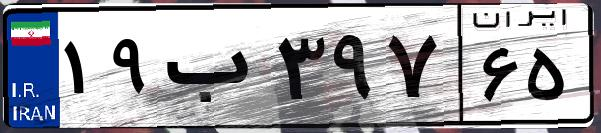1: (57, 26, 110, 100)
3: (270, 28, 330, 110)
5: (525, 38, 570, 115)
6: (475, 38, 525, 113)
7: (385, 28, 445, 110)
9: (330, 28, 385, 110), (110, 28, 158, 98)
ب: (158, 20, 270, 120)
